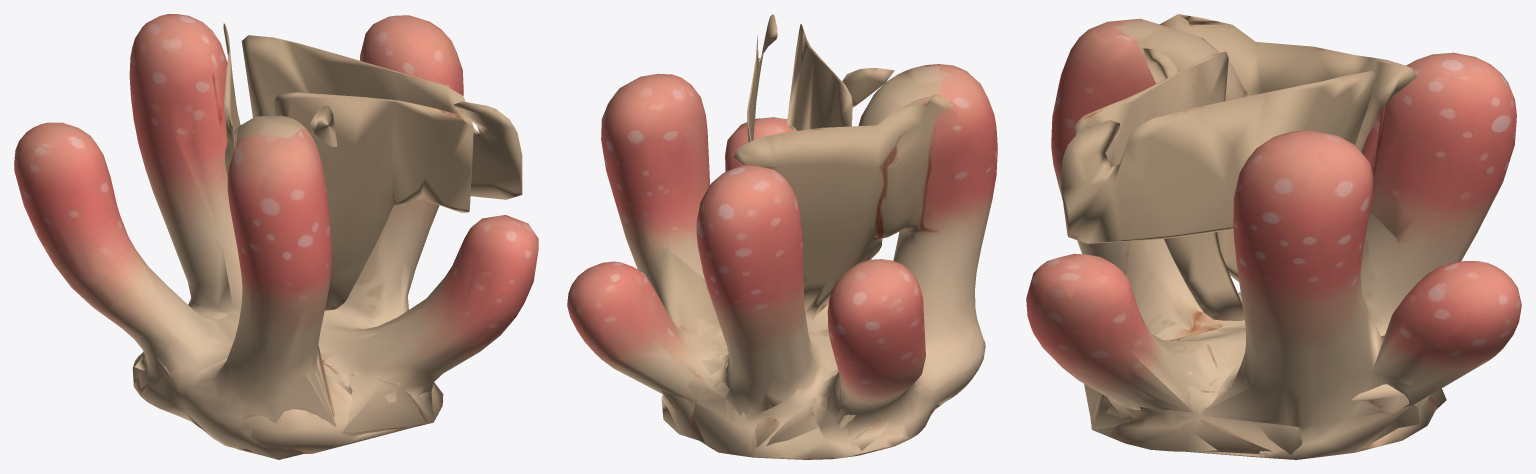
3 views of the same model, side by side, from view 1: azimuth 30°, elevation 25°; view 2: azimuth 150°, elevation 25°; view 3: azimuth 270°, elevation 25° (orthographic). The views are drawn at different scales.
Parts seen in each view (by area): view 1: node_0; view 2: node_0; view 3: node_0.
Boxes of the visible parts, bbox=[...] form: node_0: bbox=[14, 14, 538, 459]; node_0: bbox=[567, 14, 997, 459]; node_0: bbox=[1026, 14, 1521, 459].
Bounding box in the file's own units: 0.793 × 0.6274 × 0.8414.
1 material, 1 textured.
